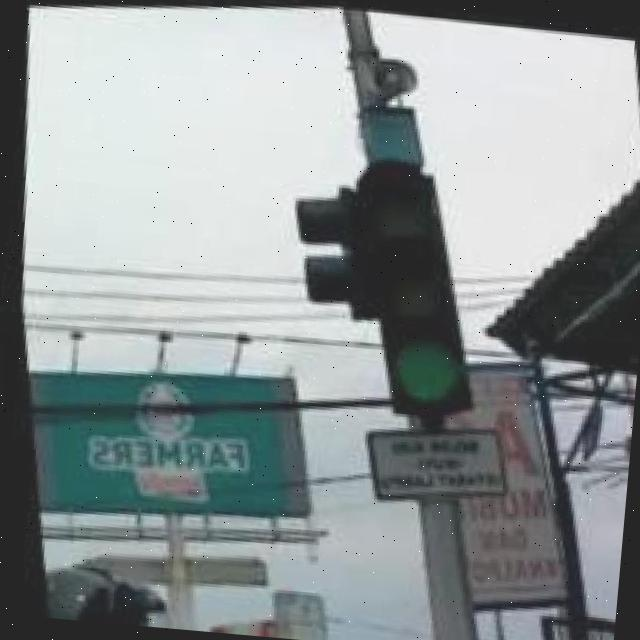green_light: (331, 148, 488, 420)
